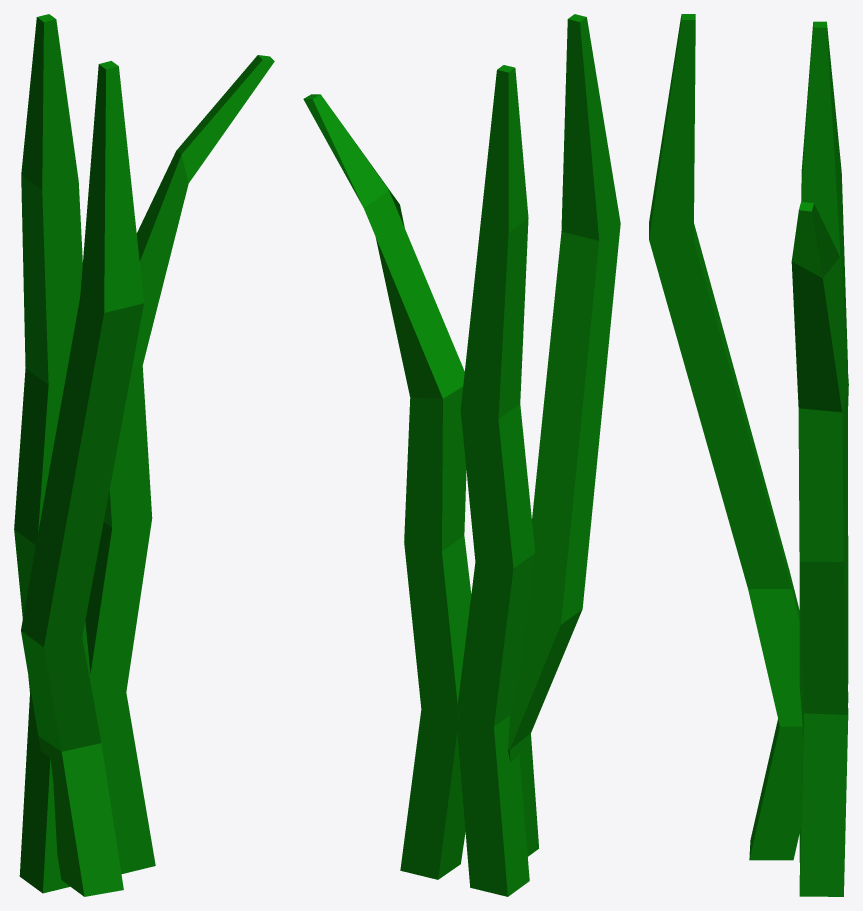
The model's file is grass_1a.fbx.
3 views of the same model, side by side, from view 1: azimuth 30°, elevation 25°; view 2: azimuth 150°, elevation 25°; view 3: azimuth 270°, elevation 25° (orthographic). The views are drawn at different scales.
Visible parts, largest first — view 1: grass_1a; view 2: grass_1a; view 3: grass_1a.
Boxes of the visible parts, x1,y1,x2,y2 form: grass_1a: (14, 14, 274, 896); grass_1a: (303, 14, 620, 896); grass_1a: (649, 14, 848, 896).
Size of the model in its own units: 20.7 by 65.88 by 14.36.
